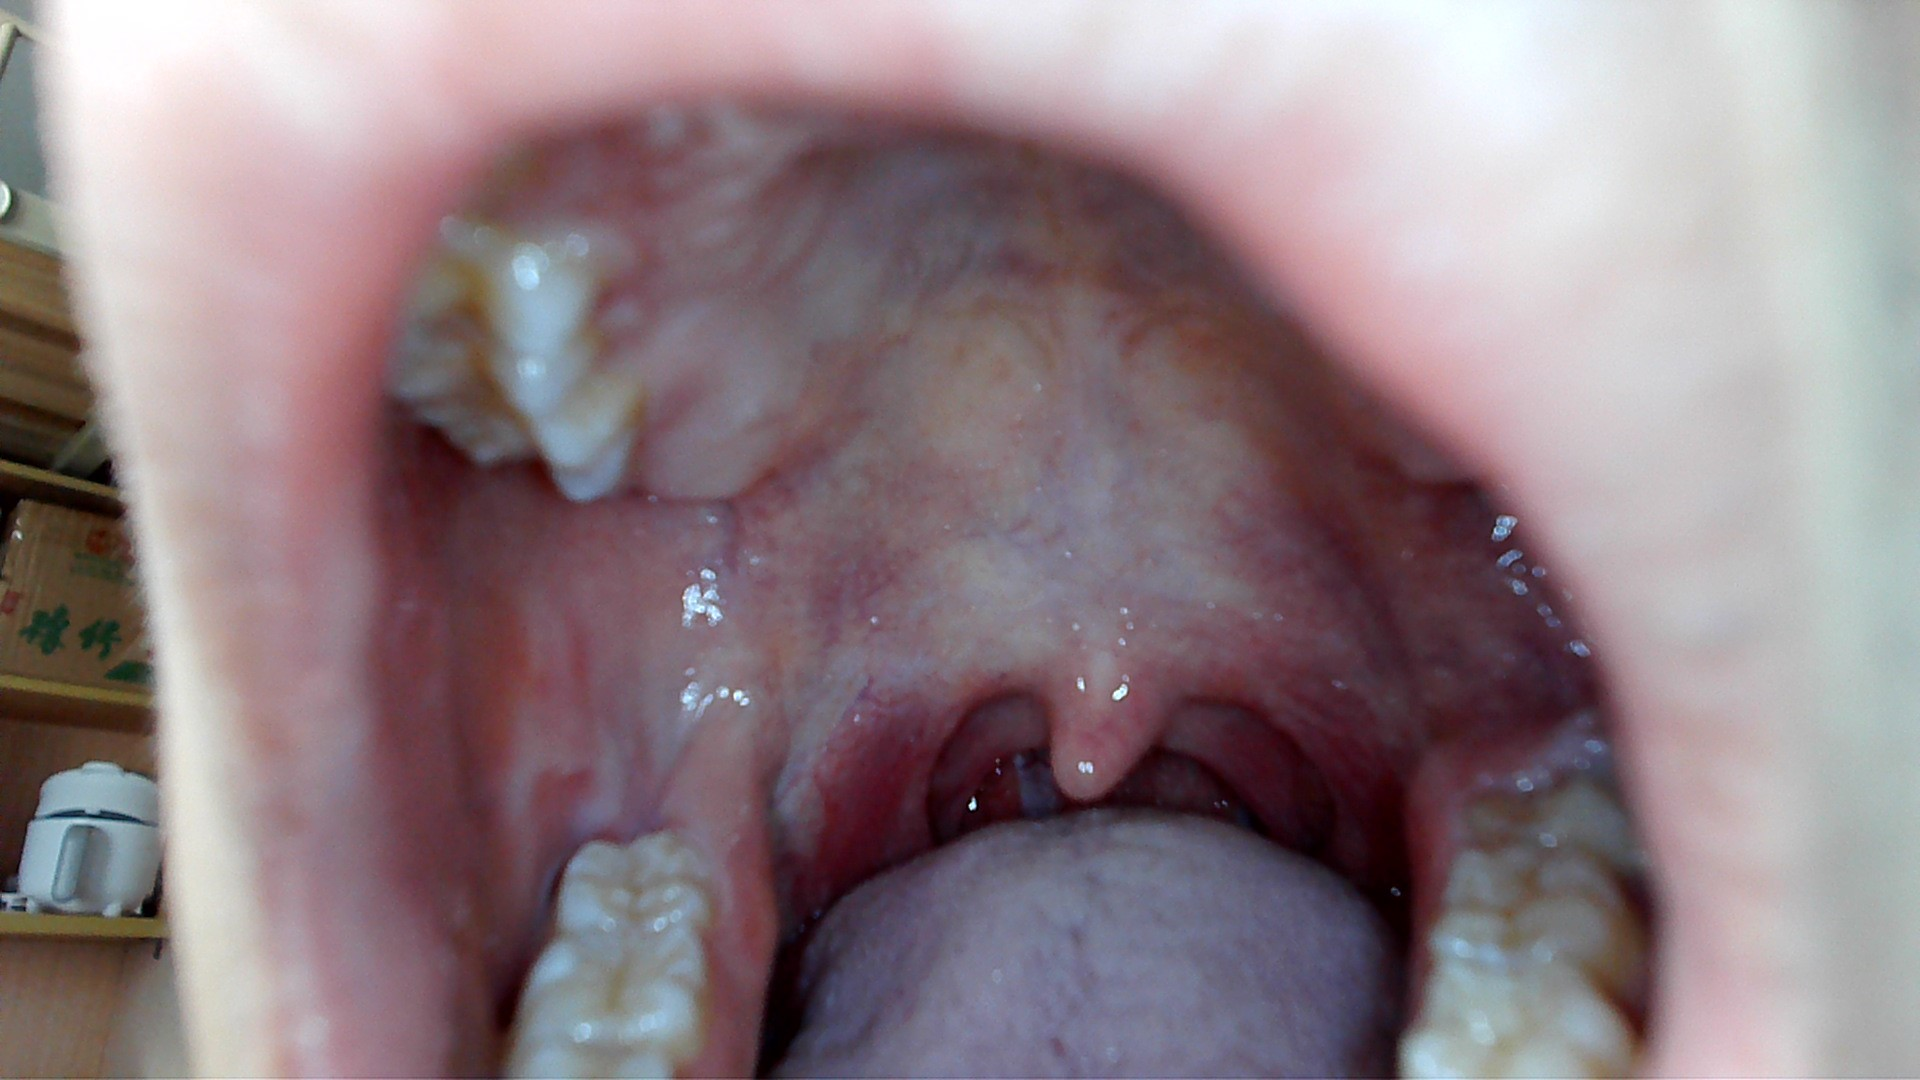throat: (1242, 659, 1362, 848), (874, 669, 982, 844)
